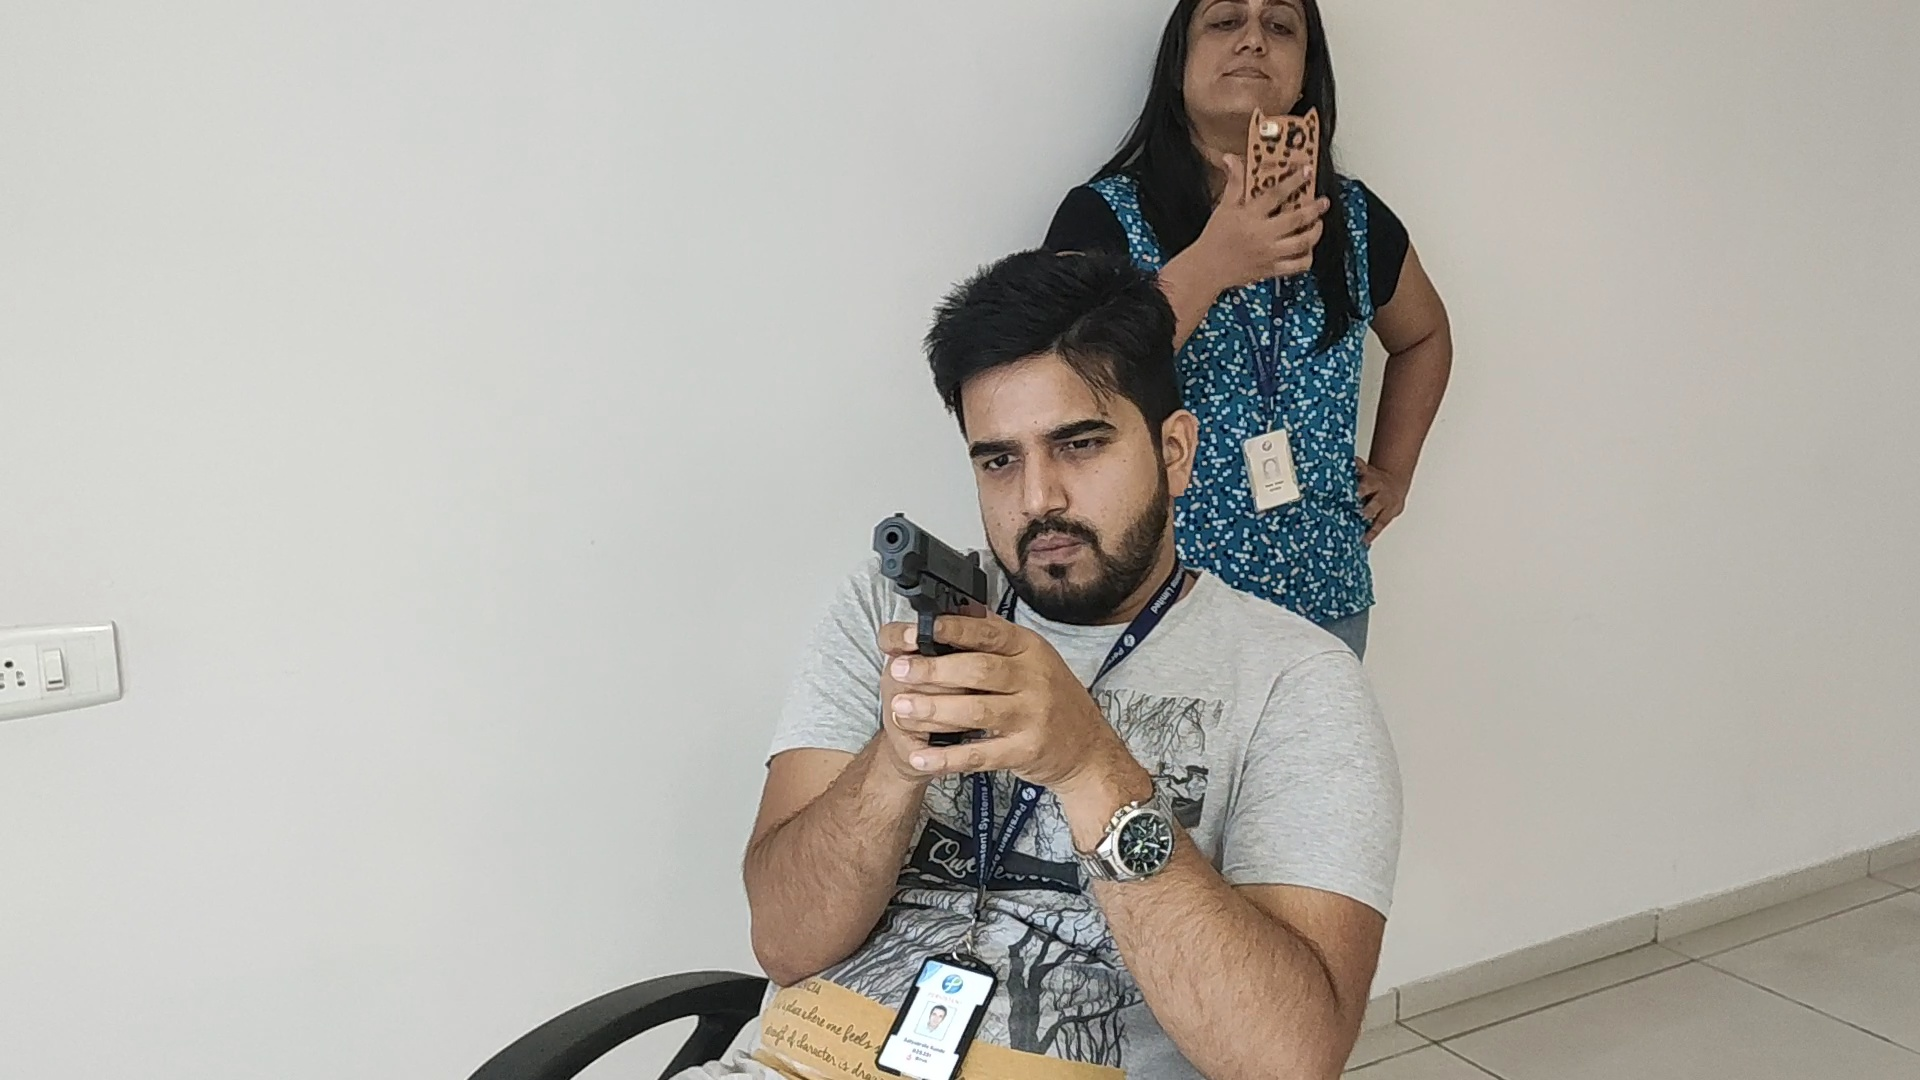gun: (872, 512, 986, 609)
